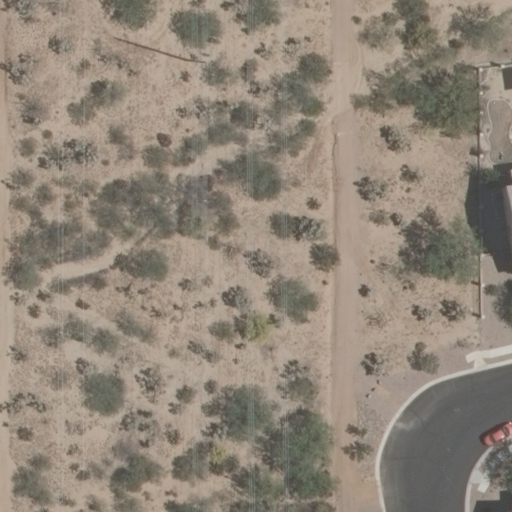DT: (188, 46, 212, 72)
